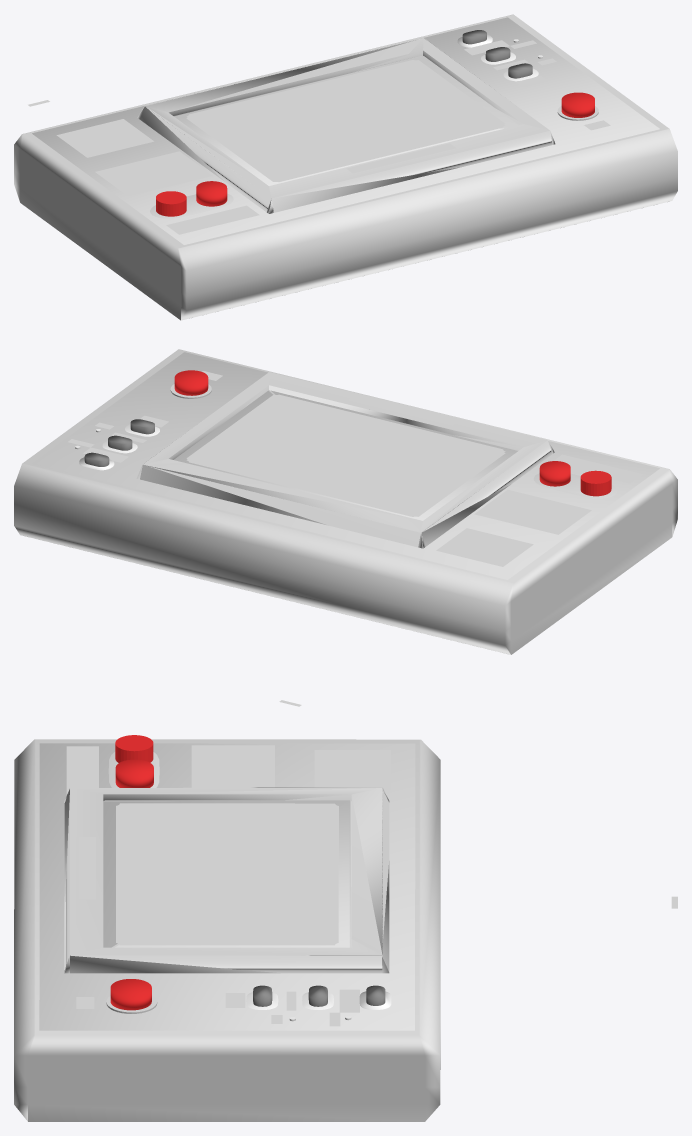
Rendered from GameWatchModelWithTexturesFinal.fbx.
The picture shows the model from 3 angles, top to bottom: view 1: azimuth 30°, elevation 25°; view 2: azimuth 150°, elevation 25°; view 3: azimuth 270°, elevation 25°; orthographic projection. The views are drawn at different scales.
Visible parts, largest first — view 1: 1base, 7pantalla, 3carcasaColor, 4marcoPantalla, dude.001, 6marcoInterior.001, Game_and_watch_logo.svg.001, Control.001, BotonDer, NintendoLogo.001, 7pantalla.001, BotonIzqDer (+2 smaller); view 2: 1base, 7pantalla, 3carcasaColor, 4marcoPantalla, dude.001, 6marcoInterior.001, Game_and_watch_logo.svg.001, Control.001, BotonDer, NintendoLogo.001, 7pantalla.001, BotonIzqDer (+2 smaller); view 3: 1base, 3carcasaColor, 7pantalla, 4marcoPantalla, 6marcoInterior.001, dude.001, Game_and_watch_logo.svg.001, Control.001, BotonDer, NintendoLogo.001, BotonIzqDer, BotonIzqIzq (+1 smaller).
Boxes of the visible parts, bbox=[...] form: 1base: bbox=[14, 14, 677, 320]; 7pantalla: bbox=[186, 60, 505, 180]; 3carcasaColor: bbox=[32, 17, 659, 244]; 4marcoPantalla: bbox=[137, 38, 555, 213]; dude.001: bbox=[95, 151, 212, 196]; 6marcoInterior.001: bbox=[173, 55, 517, 185]; Game_and_watch_logo.svg.001: bbox=[56, 119, 153, 157]; Control.001: bbox=[166, 205, 259, 234]; BotonDer: bbox=[561, 92, 594, 117]; NintendoLogo.001: bbox=[346, 143, 456, 173]; 7pantalla.001: bbox=[186, 117, 505, 181]; BotonIzqDer: bbox=[196, 181, 227, 206]; 1base: bbox=[14, 349, 677, 654]; 7pantalla: bbox=[186, 394, 505, 515]; 3carcasaColor: bbox=[32, 352, 659, 579]; 4marcoPantalla: bbox=[136, 372, 554, 548]; dude.001: bbox=[474, 489, 591, 534]; 6marcoInterior.001: bbox=[174, 390, 517, 520]; Game_and_watch_logo.svg.001: bbox=[436, 528, 533, 566]; Control.001: bbox=[554, 454, 642, 483]; BotonDer: bbox=[174, 370, 208, 395]; NintendoLogo.001: bbox=[349, 395, 458, 425]; 7pantalla.001: bbox=[186, 452, 505, 516]; BotonIzqDer: bbox=[539, 461, 570, 486]; 1base: bbox=[14, 739, 440, 1121]; 3carcasaColor: bbox=[39, 743, 415, 1030]; 7pantalla: bbox=[116, 803, 338, 943]; 4marcoPantalla: bbox=[64, 787, 389, 973]; 6marcoInterior.001: bbox=[103, 800, 351, 947]; dude.001: bbox=[191, 745, 274, 787]; Game_and_watch_logo.svg.001: bbox=[314, 750, 390, 790]; Control.001: bbox=[66, 746, 98, 794]; BotonDer: bbox=[110, 979, 151, 1010]; NintendoLogo.001: bbox=[79, 837, 95, 899]; BotonIzqDer: bbox=[115, 759, 153, 787]; BotonIzqIzq: bbox=[115, 735, 153, 762].
Size of what is drawn, in the model's own units: 11 by 1.9 by 10.43.
